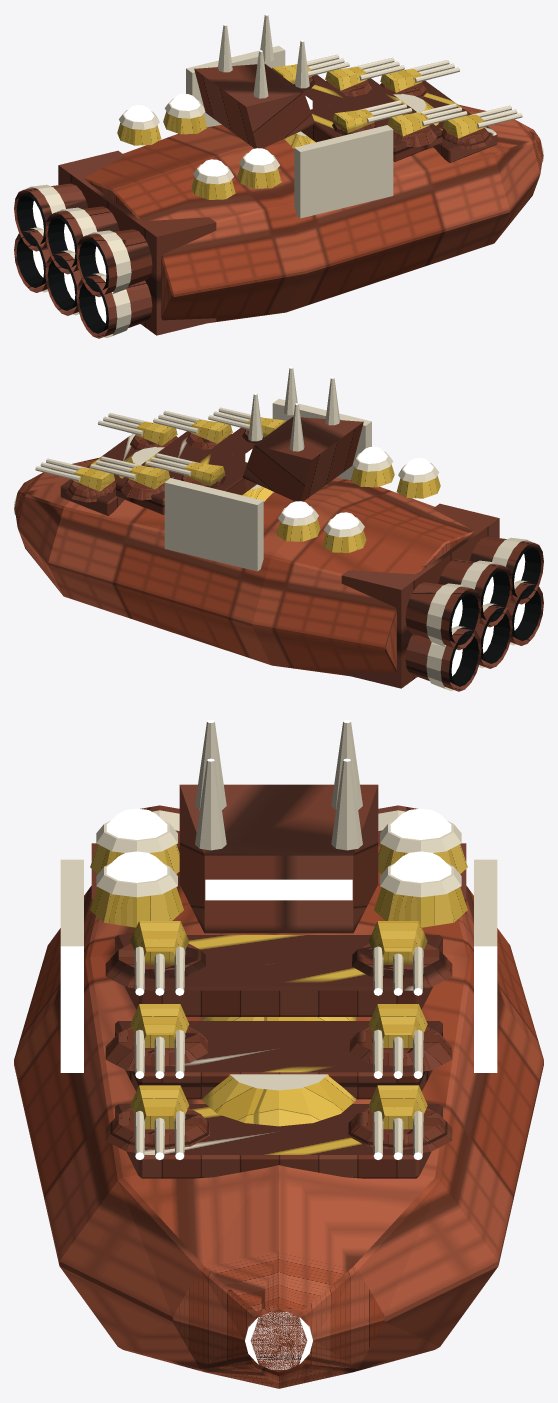
File: dreadnought.glb
3 views of the same model, one above another, from view 1: azimuth 30°, elevation 25°; view 2: azimuth 150°, elevation 25°; view 3: azimuth 270°, elevation 25° (orthographic). The views are drawn at different scales.
Visible parts, largest first — view 1: hull_body, engine_block, weapon_turrets, sensor_tower, shield_domes; view 2: hull_body, engine_block, weapon_turrets, sensor_tower, shield_domes; view 3: hull_body, weapon_turrets, sensor_tower, shield_domes, engine_block.
Boxes of the visible parts, x1,y1,x2,y2 form: hull_body: (84, 46, 543, 323); engine_block: (14, 150, 216, 338); weapon_turrets: (272, 54, 543, 161); sensor_tower: (194, 14, 315, 148); shield_domes: (117, 93, 281, 199); hull_body: (14, 399, 473, 676); engine_block: (341, 503, 543, 691); weapon_turrets: (14, 407, 285, 514); sensor_tower: (242, 367, 363, 501); shield_domes: (276, 446, 440, 552); hull_body: (14, 846, 543, 1388); weapon_turrets: (105, 921, 452, 1369); sensor_tower: (179, 720, 378, 933); shield_domes: (90, 808, 467, 927); engine_block: (91, 805, 466, 913).
Size of the model in its own units: 80 by 41.1 by 40.61.
1 material, 1 textured.
